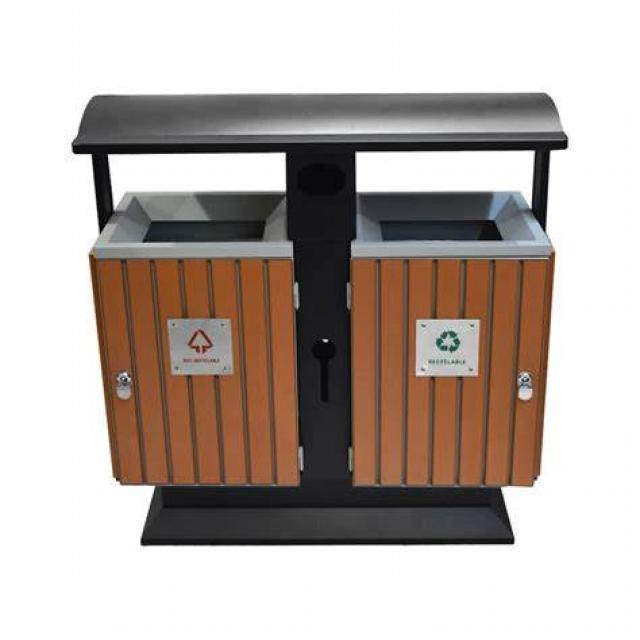garbage container: (54, 74, 586, 584)
